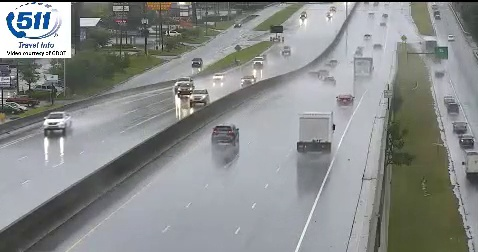car: (211, 125, 239, 143), (337, 94, 354, 106)
small-truck: (298, 113, 333, 152), (353, 57, 373, 81)
